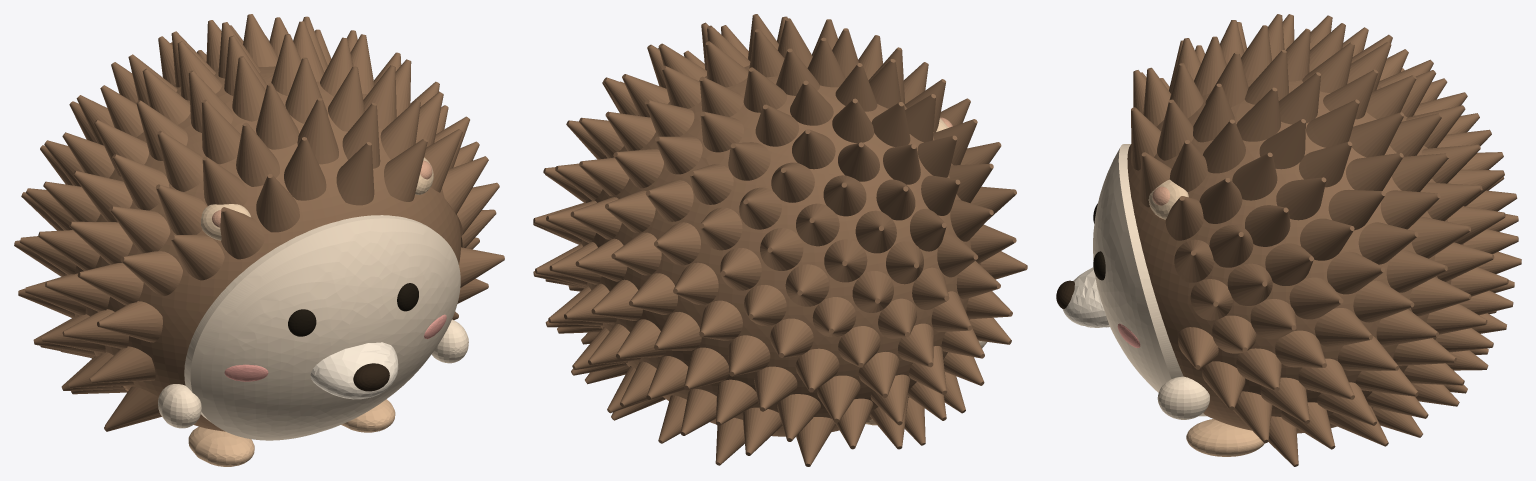
File: hedgehog.glb
3 views of the same model, side by side, from view 1: azimuth 30°, elevation 25°; view 2: azimuth 150°, elevation 25°; view 3: azimuth 270°, elevation 25° (orthographic).
Parts seen in each view (by area): view 1: spikes, face, body, snout, footR, armR, armL, footL, nose, earR, eyeR, blushR; view 2: spikes, body; view 3: spikes, body, face, footL, armL, snout, earL.
Part boxes in pixels (x1=…): spikes: x1=14, y1=14, x2=504, y2=431; face: x1=184, y1=215, x2=460, y2=440; body: x1=65, y1=66, x2=460, y2=431; snout: x1=310, y1=342, x2=398, y2=399; footR: x1=188, y1=426, x2=254, y2=466; armR: x1=158, y1=384, x2=201, y2=428; armL: x1=431, y1=319, x2=468, y2=363; footL: x1=341, y1=399, x2=395, y2=432; nose: x1=353, y1=363, x2=389, y2=391; earR: x1=201, y1=204, x2=250, y2=240; eyeR: x1=288, y1=309, x2=316, y2=336; blushR: x1=224, y1=364, x2=268, y2=381; spikes: x1=533, y1=14, x2=1027, y2=466; body: x1=581, y1=65, x2=980, y2=436; spikes: x1=1131, y1=14, x2=1521, y2=466; body: x1=1127, y1=70, x2=1463, y2=433; face: x1=1093, y1=144, x2=1206, y2=416; footL: x1=1186, y1=419, x2=1264, y2=456; armL: x1=1157, y1=376, x2=1209, y2=419; snout: x1=1062, y1=267, x2=1109, y2=327; earL: x1=1148, y1=179, x2=1188, y2=219.
Bounding box in the file's own units: 75.63 × 63.95 × 71.03.
